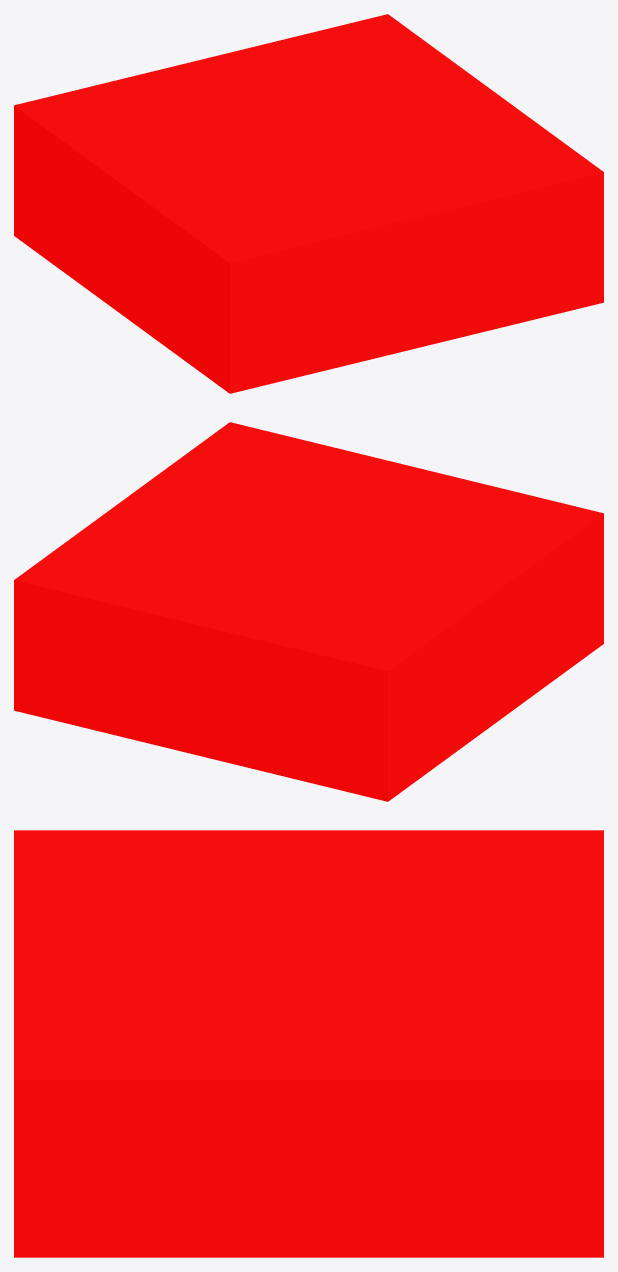
Rendered from Items.fbx_Teleport_Button_4.fbx.
3 views of the same model, one above another, from view 1: azimuth 30°, elevation 25°; view 2: azimuth 150°, elevation 25°; view 3: azimuth 270°, elevation 25° (orthographic). The views are drawn at different scales.
Visible parts, largest first — view 1: Interactable.019; view 2: Interactable.019; view 3: Interactable.019.
Part boxes in pixels (<box>): Interactable.019: <box>14,14,603,393</box>; Interactable.019: <box>14,422,603,801</box>; Interactable.019: <box>14,830,603,1257</box>.
Size of the model in its own units: 12 by 12 by 4.
